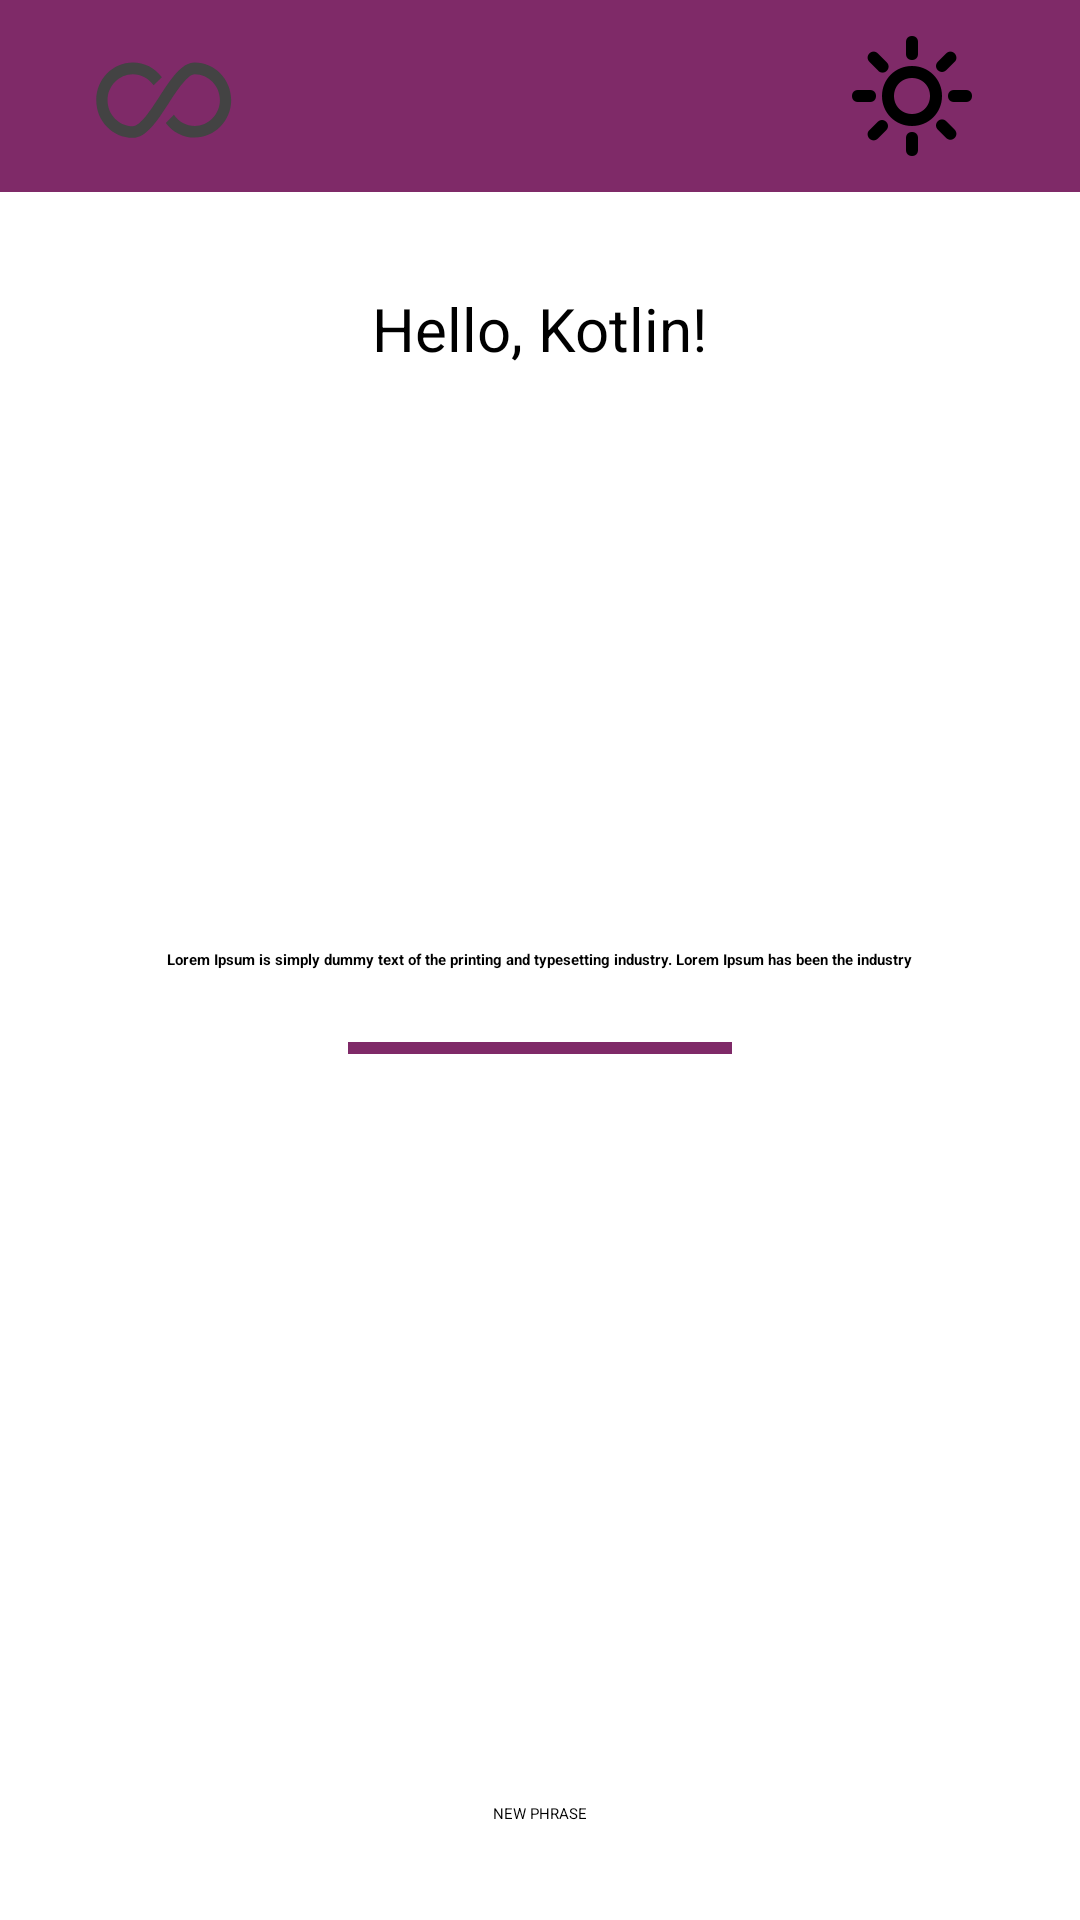

Locate icon controls on the screen. Image size 1080 x 1920, boxes as (x1, y1, x2, y2).
all: (96, 62, 231, 138)
sunny: (852, 36, 972, 156)
